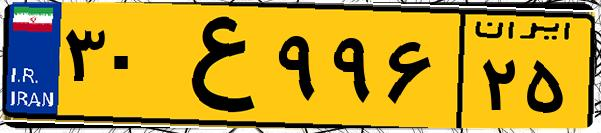0: (110, 28, 158, 98)
2: (475, 38, 525, 113)
3: (57, 26, 110, 100)
5: (525, 38, 570, 115)
6: (385, 28, 445, 110)
9: (270, 28, 330, 110), (330, 28, 385, 110)
ع: (158, 12, 270, 120)
